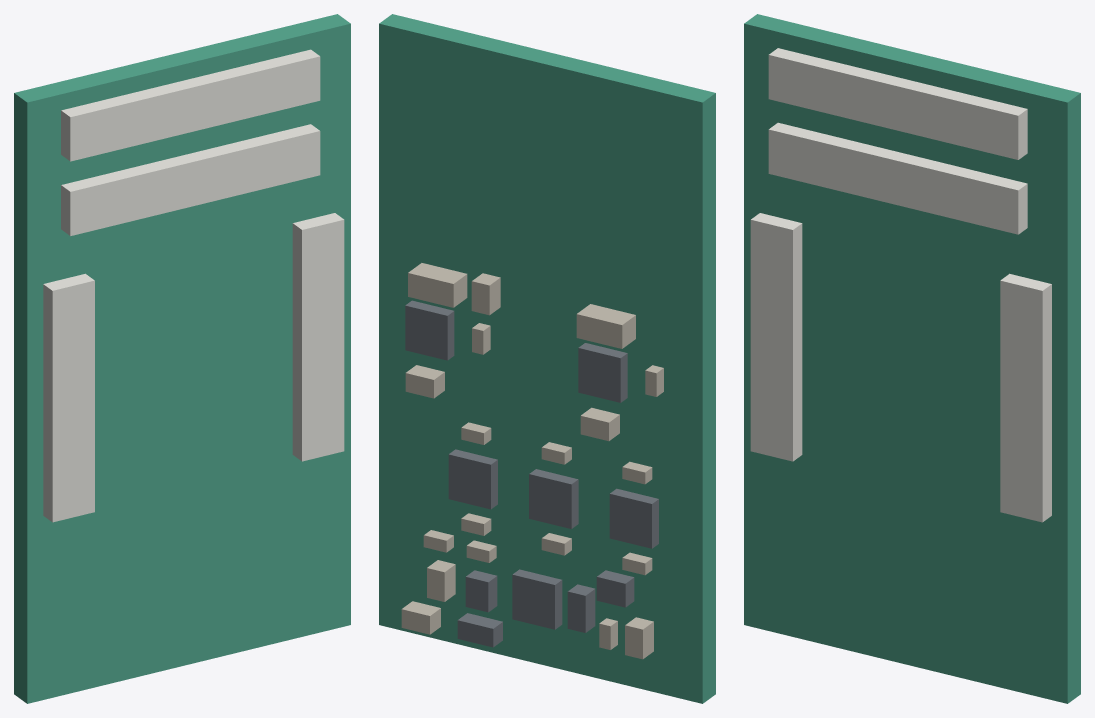
The model's file is Option_B_V3_part_0.glb.
3 views of the same model, side by side, from view 1: azimuth 30°, elevation 25°; view 2: azimuth 150°, elevation 25°; view 3: azimuth 330°, elevation 25° (orthographic).
Parts seen in each view (by area): view 1: board, conn; view 2: board, ic, passive; view 3: board, conn.
Part boxes in pixels (x1,y1,x2,y2): board: (14, 14, 350, 703); conn: (43, 49, 344, 522); board: (379, 14, 715, 703); ic: (405, 300, 658, 647); passive: (401, 263, 663, 659); board: (744, 14, 1080, 703); conn: (750, 48, 1051, 522).
Size of the model in its own units: 22.69 by 40.3 by 4.42.
